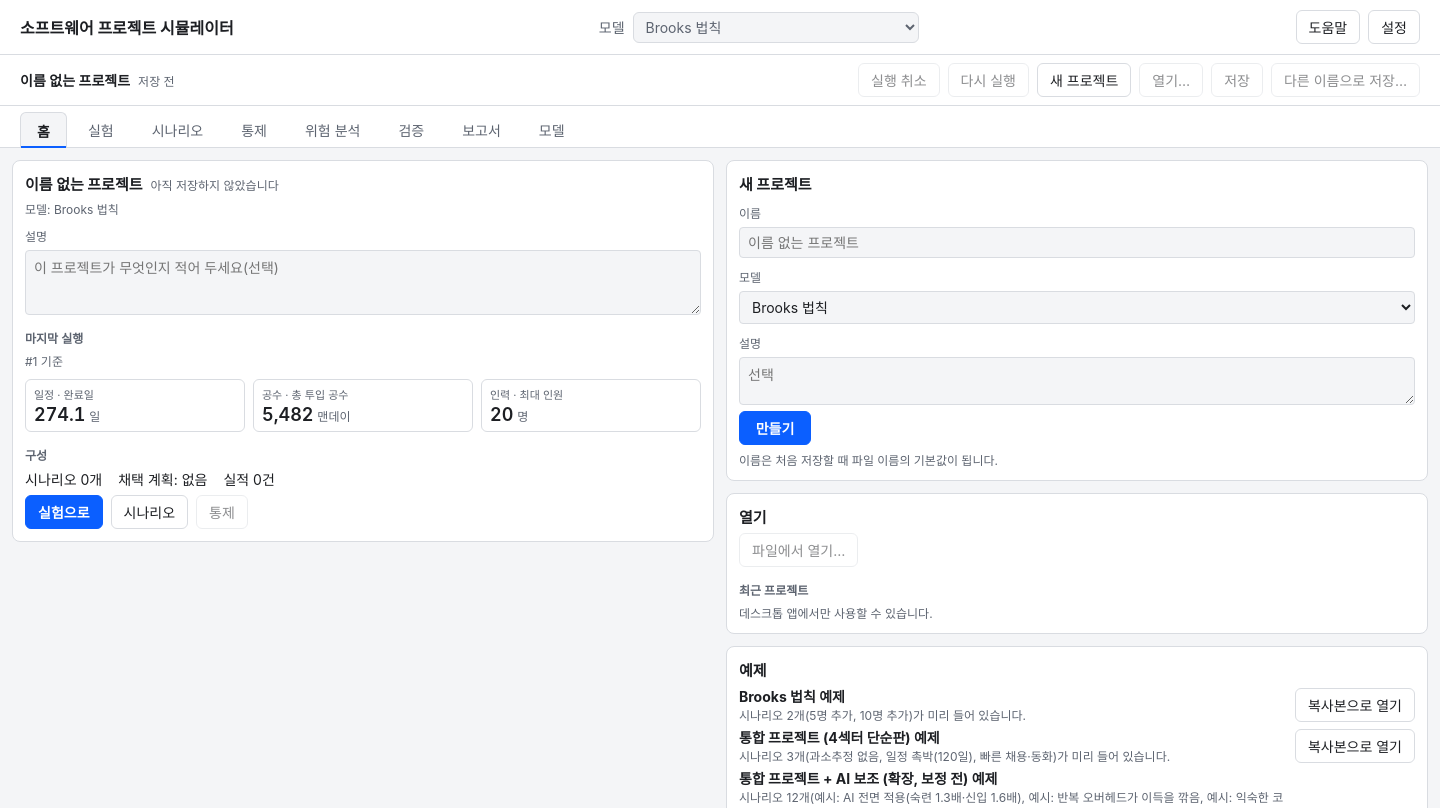
Test case: 모든 탭을 그려 본다 (화면 스모크) › 모델 탭이 오류 없이 그려진다
This screenshot has width=1440, height=808.
Click the tab "모델": (552, 130) left=522, top=112, right=582, bottom=147
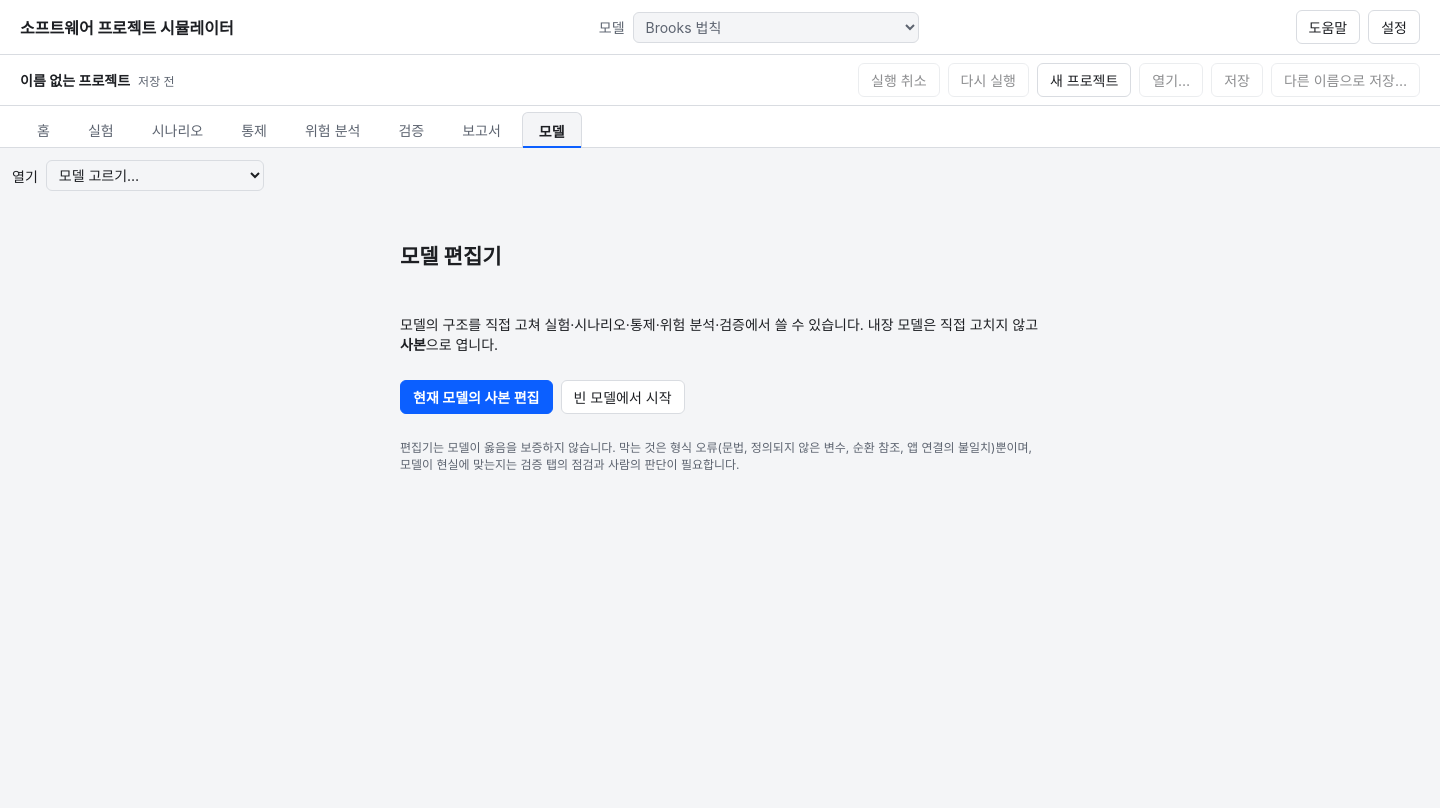
Now the panel is shown, box left=12, top=160, right=1038, bottom=472
